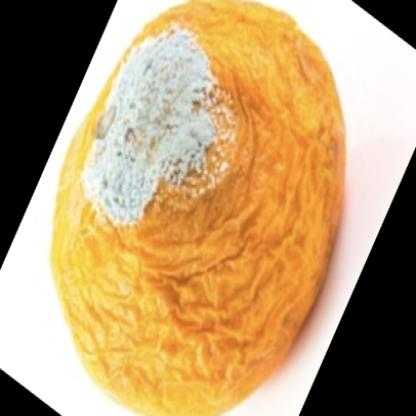rotten: (54, 1, 345, 416)
